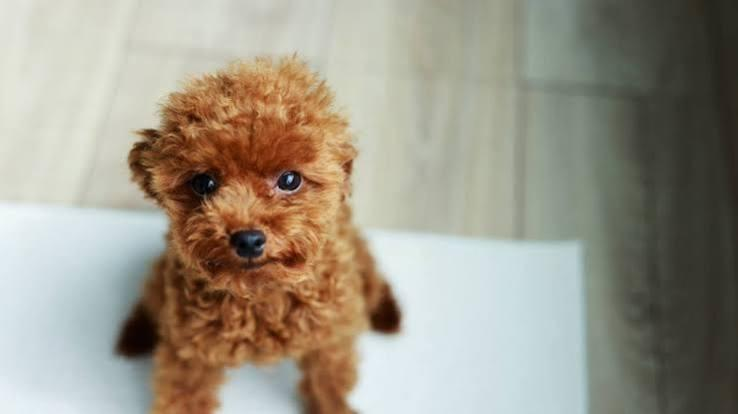puppy-dog: (112, 54, 403, 414)
